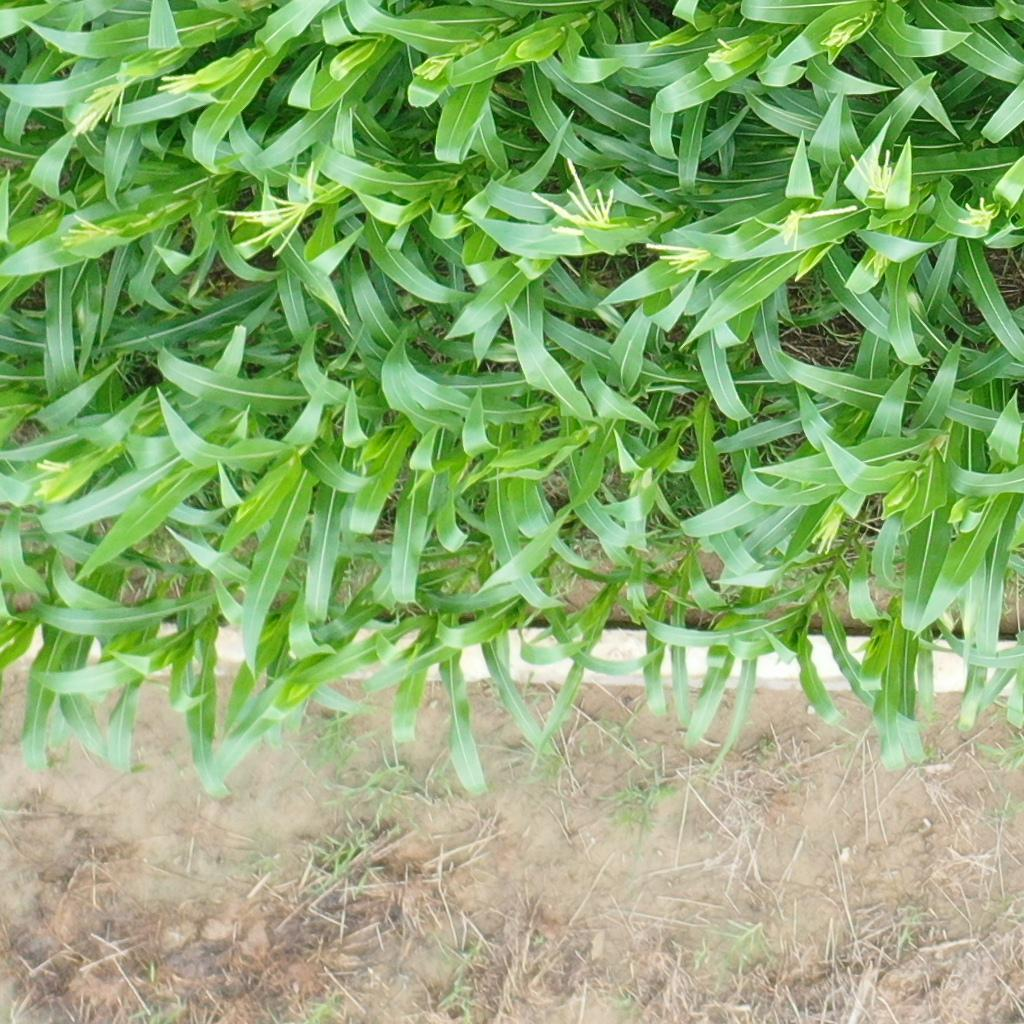Tassel: (216, 162, 344, 259), (527, 156, 616, 237), (68, 59, 140, 136), (770, 205, 860, 246), (847, 140, 896, 192), (648, 237, 713, 273), (155, 62, 216, 96), (56, 214, 113, 249), (953, 191, 1002, 230), (29, 456, 73, 499), (812, 510, 848, 557), (820, 26, 854, 55), (417, 56, 446, 84), (705, 38, 733, 66), (866, 250, 891, 277)
